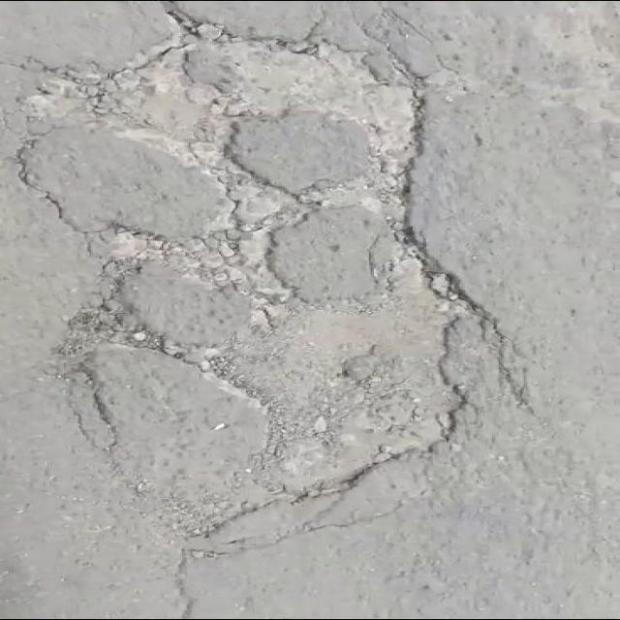lubang: (3, 3, 489, 545)
